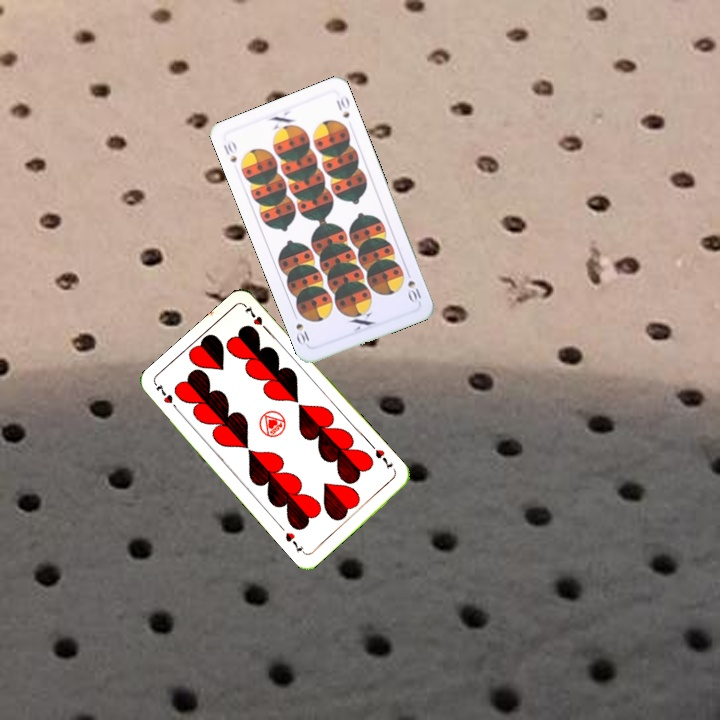H7: (152, 380, 182, 414), (371, 445, 396, 472)
S10: (402, 266, 424, 305), (219, 137, 239, 165)
